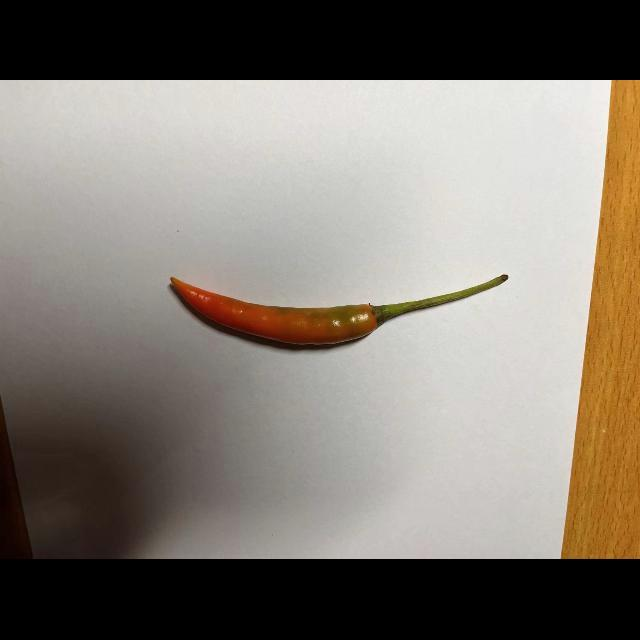chili_pepper: (153, 264, 512, 354)
